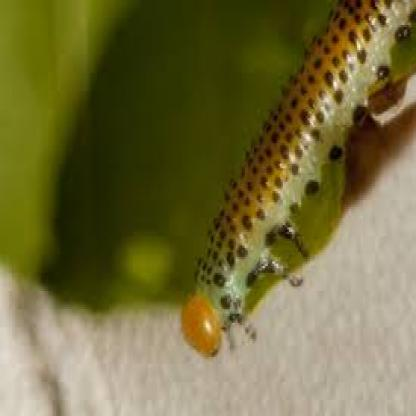sawfly: (179, 0, 416, 364)
